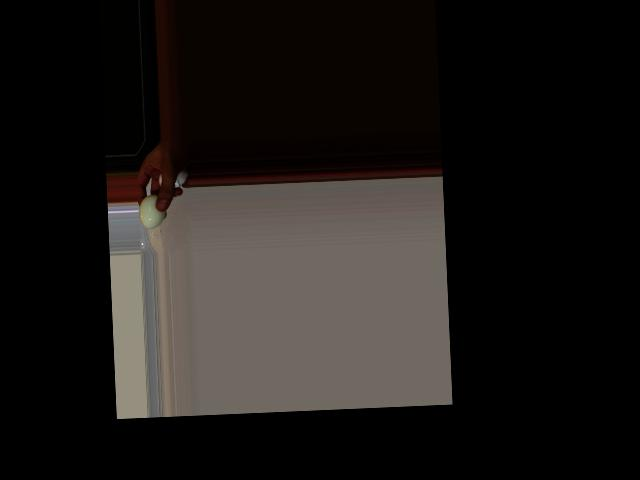egg: (138, 194, 167, 228)
